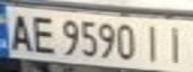0: (115, 20, 142, 61)
5: (78, 17, 100, 59)
9: (54, 16, 81, 57), (97, 19, 118, 60)
A: (3, 10, 36, 52)
E: (27, 11, 60, 55)
I: (160, 22, 193, 64), (139, 20, 169, 64)
